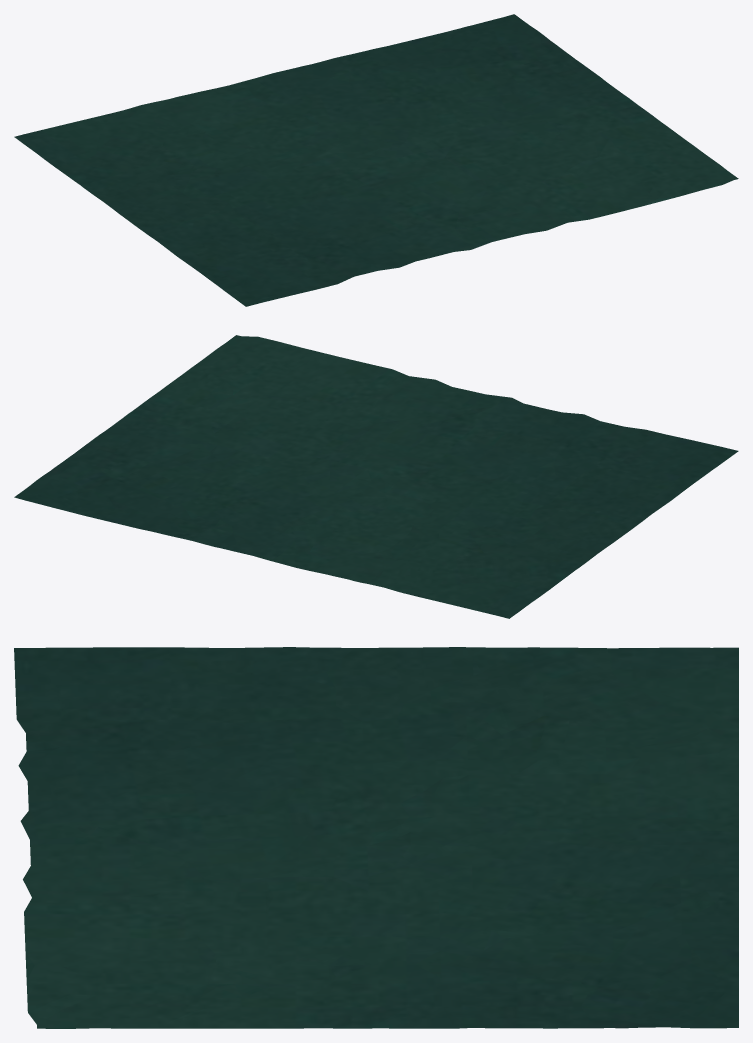
The picture shows the model from 3 angles, top to bottom: view 1: azimuth 30°, elevation 25°; view 2: azimuth 150°, elevation 25°; view 3: azimuth 270°, elevation 25°; orthographic projection. The views are drawn at different scales.
Bounding box in the file's own units: 104 × 0.5697 × 83.87.
2 materials, 2 textured.
